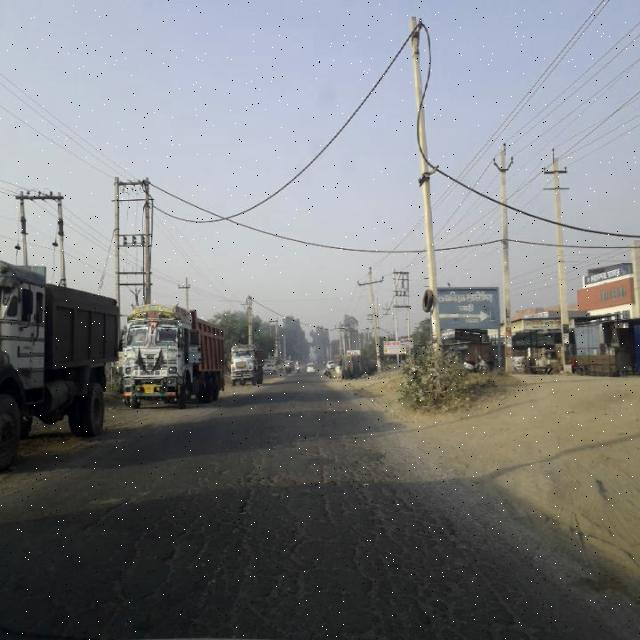D20: (1, 466, 524, 639)
